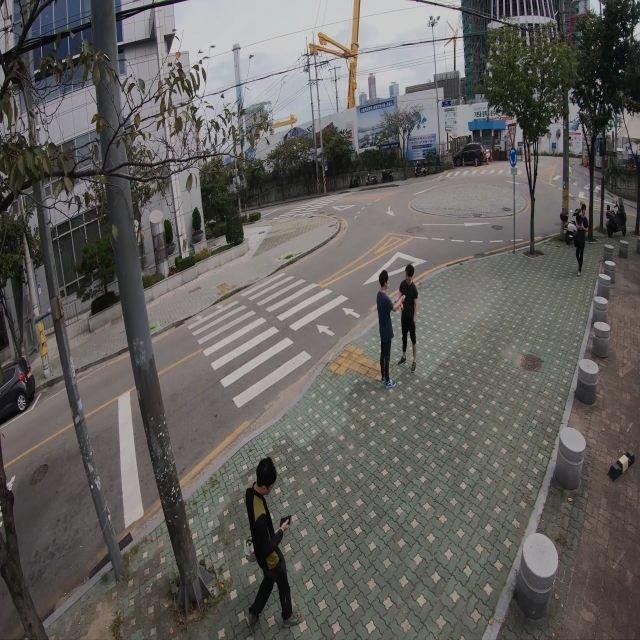fight: (373, 263, 420, 384)
non-fight: (243, 455, 297, 631)
